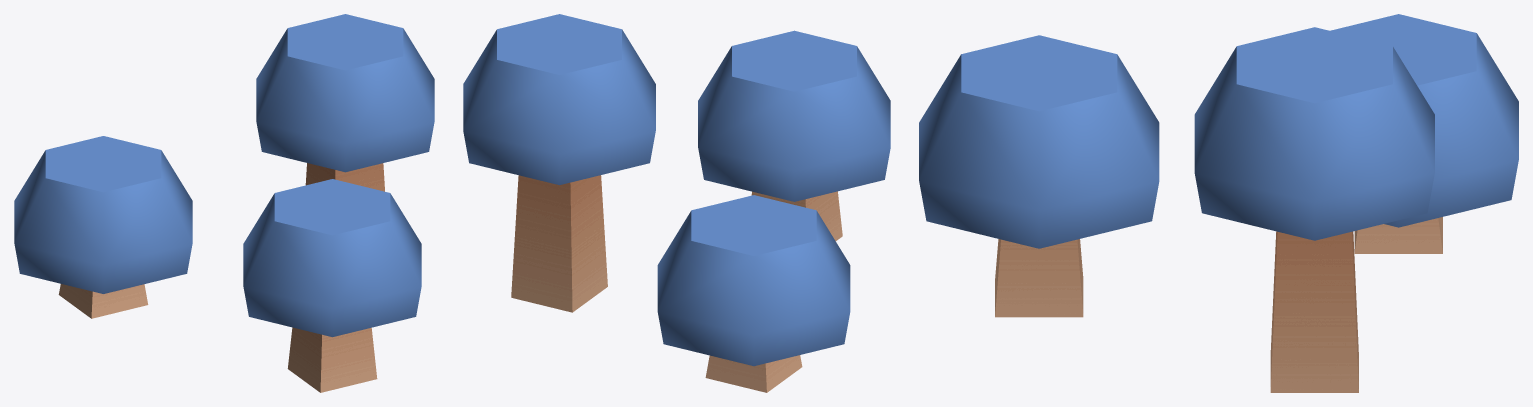
The model's file is cogumelo azul.glb.
3 renders of one model, left to right at view 1: azimuth 30°, elevation 25°; view 2: azimuth 150°, elevation 25°; view 3: azimuth 270°, elevation 25°, orthographic. The views are drawn at different scales.
Parts seen in each view (by area): view 1: mushrooms; view 2: mushrooms; view 3: mushrooms.
Boxes of the visible parts, x1,y1,x2,y2 form: mushrooms: [14, 14, 434, 392]; mushrooms: [463, 14, 890, 392]; mushrooms: [919, 14, 1518, 392].
Bounding box in the file's own units: 0.5242 × 0.295 × 0.5188.
1 material, 1 textured.
